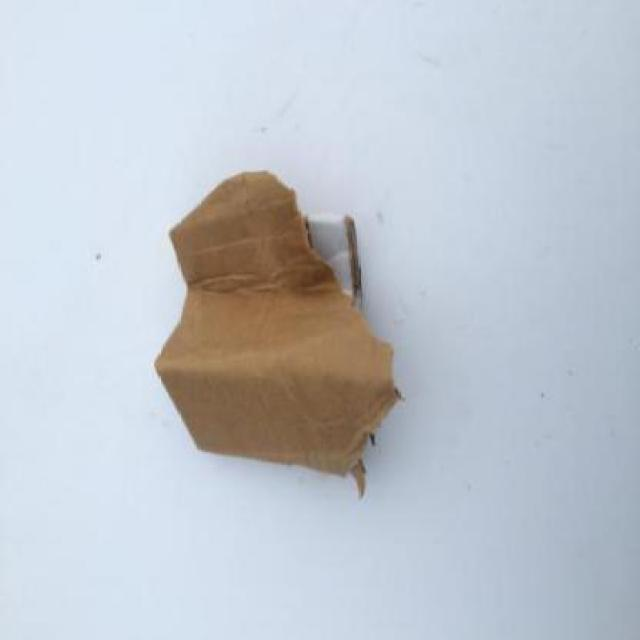box: (142, 159, 428, 518)
